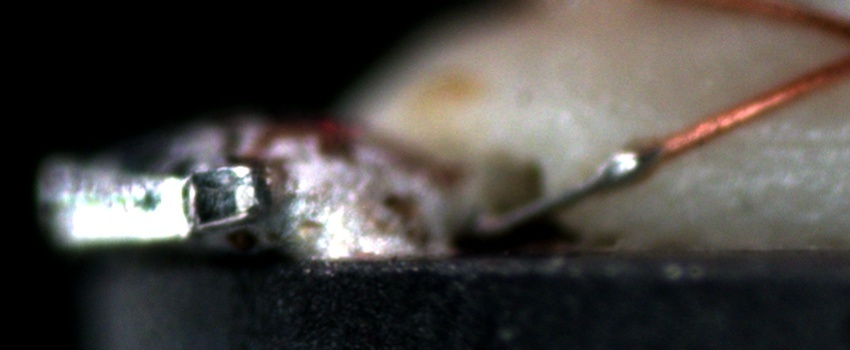DL: (738, 124, 849, 168)
TB: (586, 130, 664, 193)
TS: (493, 140, 663, 232)
TTCW: (472, 123, 714, 239)
